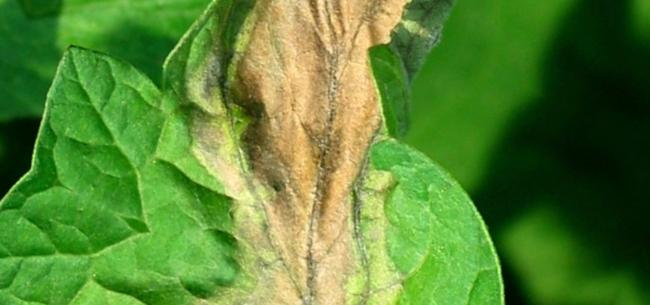Tomato leaf late blight: (0, 0, 625, 305)
